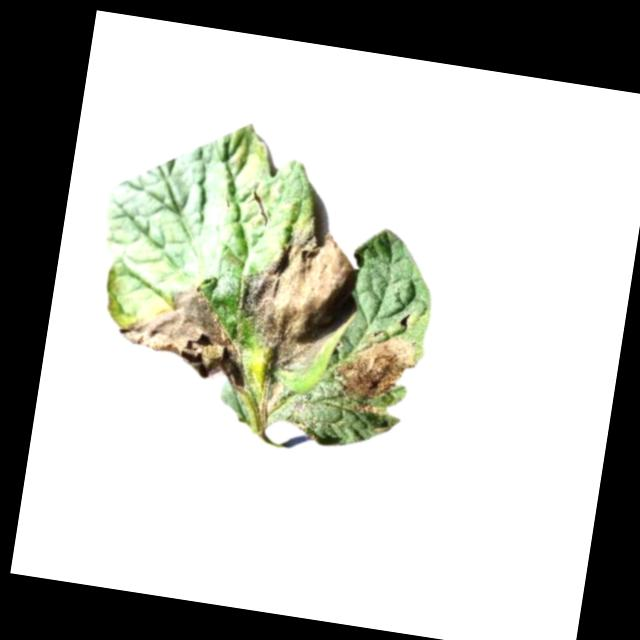Late_blight: (231, 211, 370, 382), (112, 274, 260, 392), (329, 324, 421, 405), (258, 379, 283, 418), (349, 397, 383, 415)
